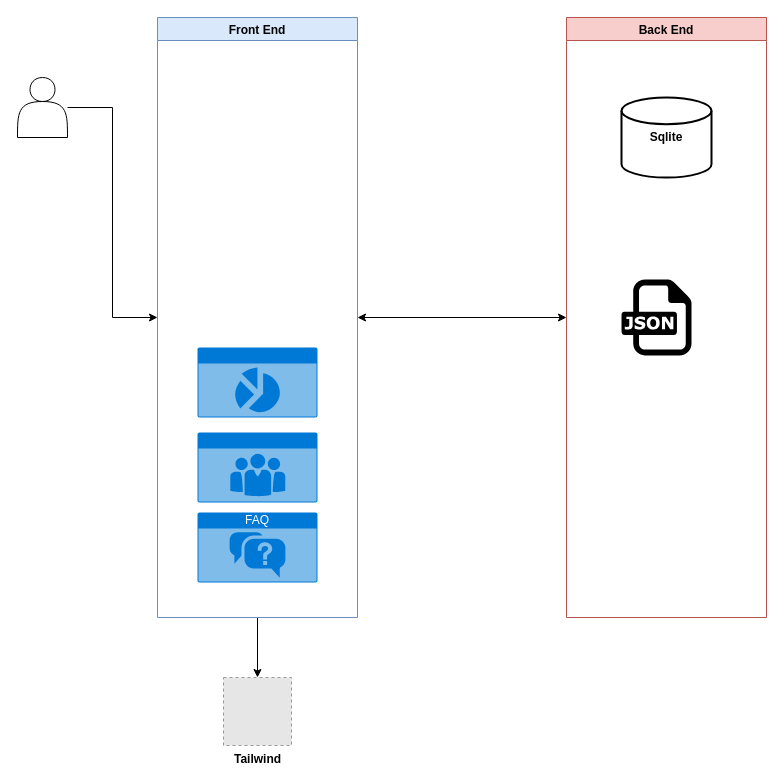
The diagram is 784 pixels wide and 784 high, and some of its shapes have lost their labels. Grey dashed boxes stand in for pictures. Here are the shapes that lost their labels. From the top down, the centre of each, then its label:
At point 42,107: "User".
At point 257,382: "Data Visualization".
At point 257,467: "About us & Contact".
